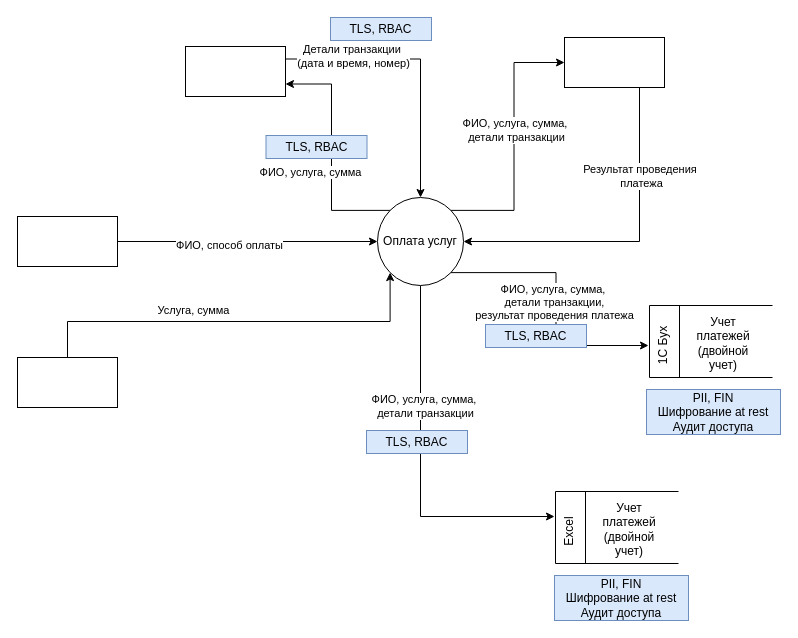
The diagram is 798 pixels wide and 638 high, and some of its shapes have lost their labels. The centre of each missing label's shape, as x and y in pixels:
Бухгалтер: point (614, 62)
Кассир: point (67, 382)
ККМ: point (235, 71)
Пациент: point (67, 241)
